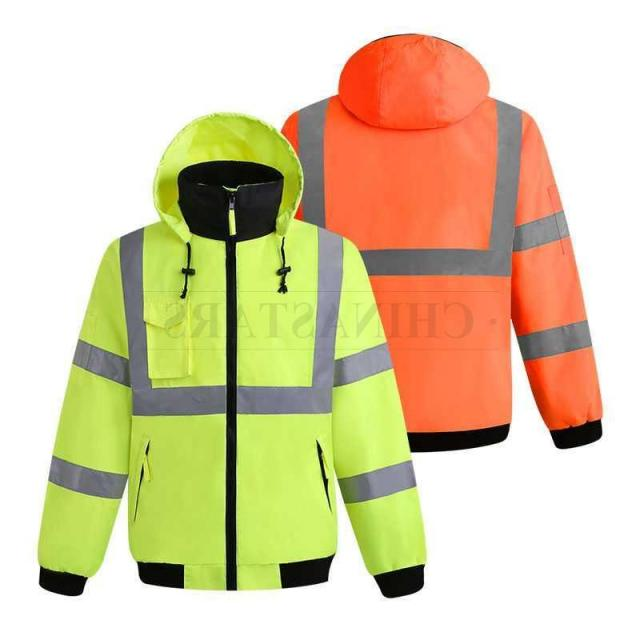Reflective-Jacket: (22, 217, 448, 605), (274, 80, 616, 462)
Safety-Helmet: (138, 103, 311, 222)
